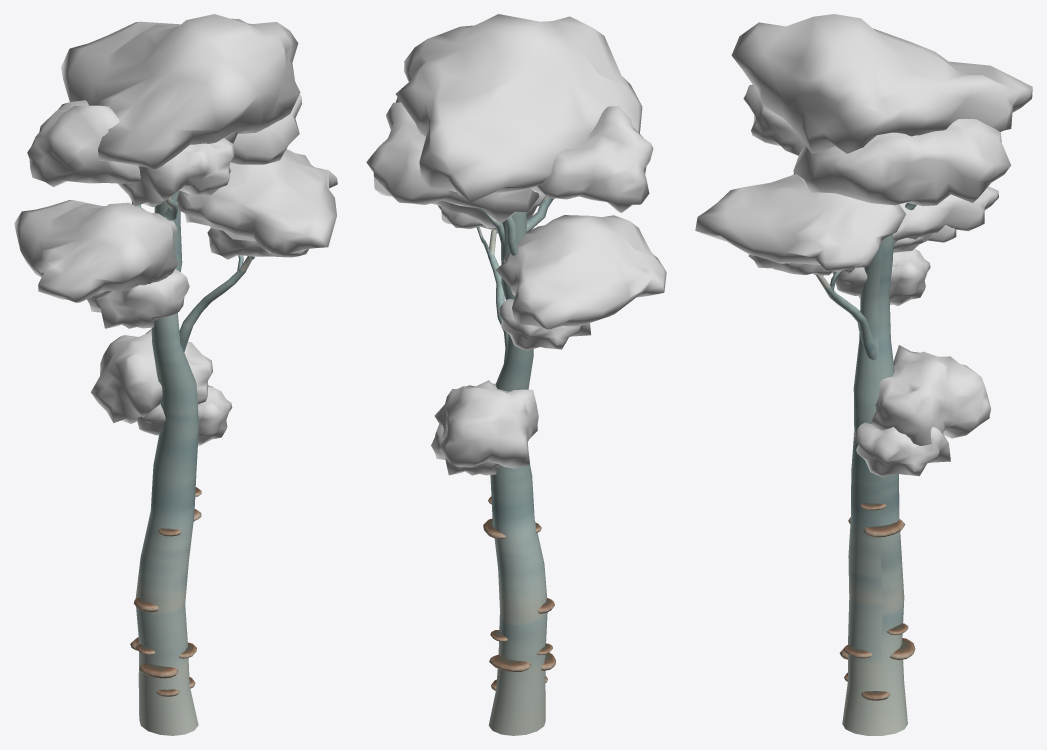
The model's file is tree_01.fbx.
The picture shows the model from 3 angles, left to right: view 1: azimuth 30°, elevation 25°; view 2: azimuth 150°, elevation 25°; view 3: azimuth 270°, elevation 25°; orthographic projection. The views are drawn at different scales.
Visible parts, largest first — view 1: Tree_LOD0; view 2: Tree_LOD0; view 3: Tree_LOD0.
Boxes of the visible parts, x1,y1,x2,y2 form: Tree_LOD0: (14, 14, 337, 735); Tree_LOD0: (366, 14, 666, 735); Tree_LOD0: (695, 14, 1032, 735).
Size of what is drawn, in the model's own units: 727 by 1715 by 737.
